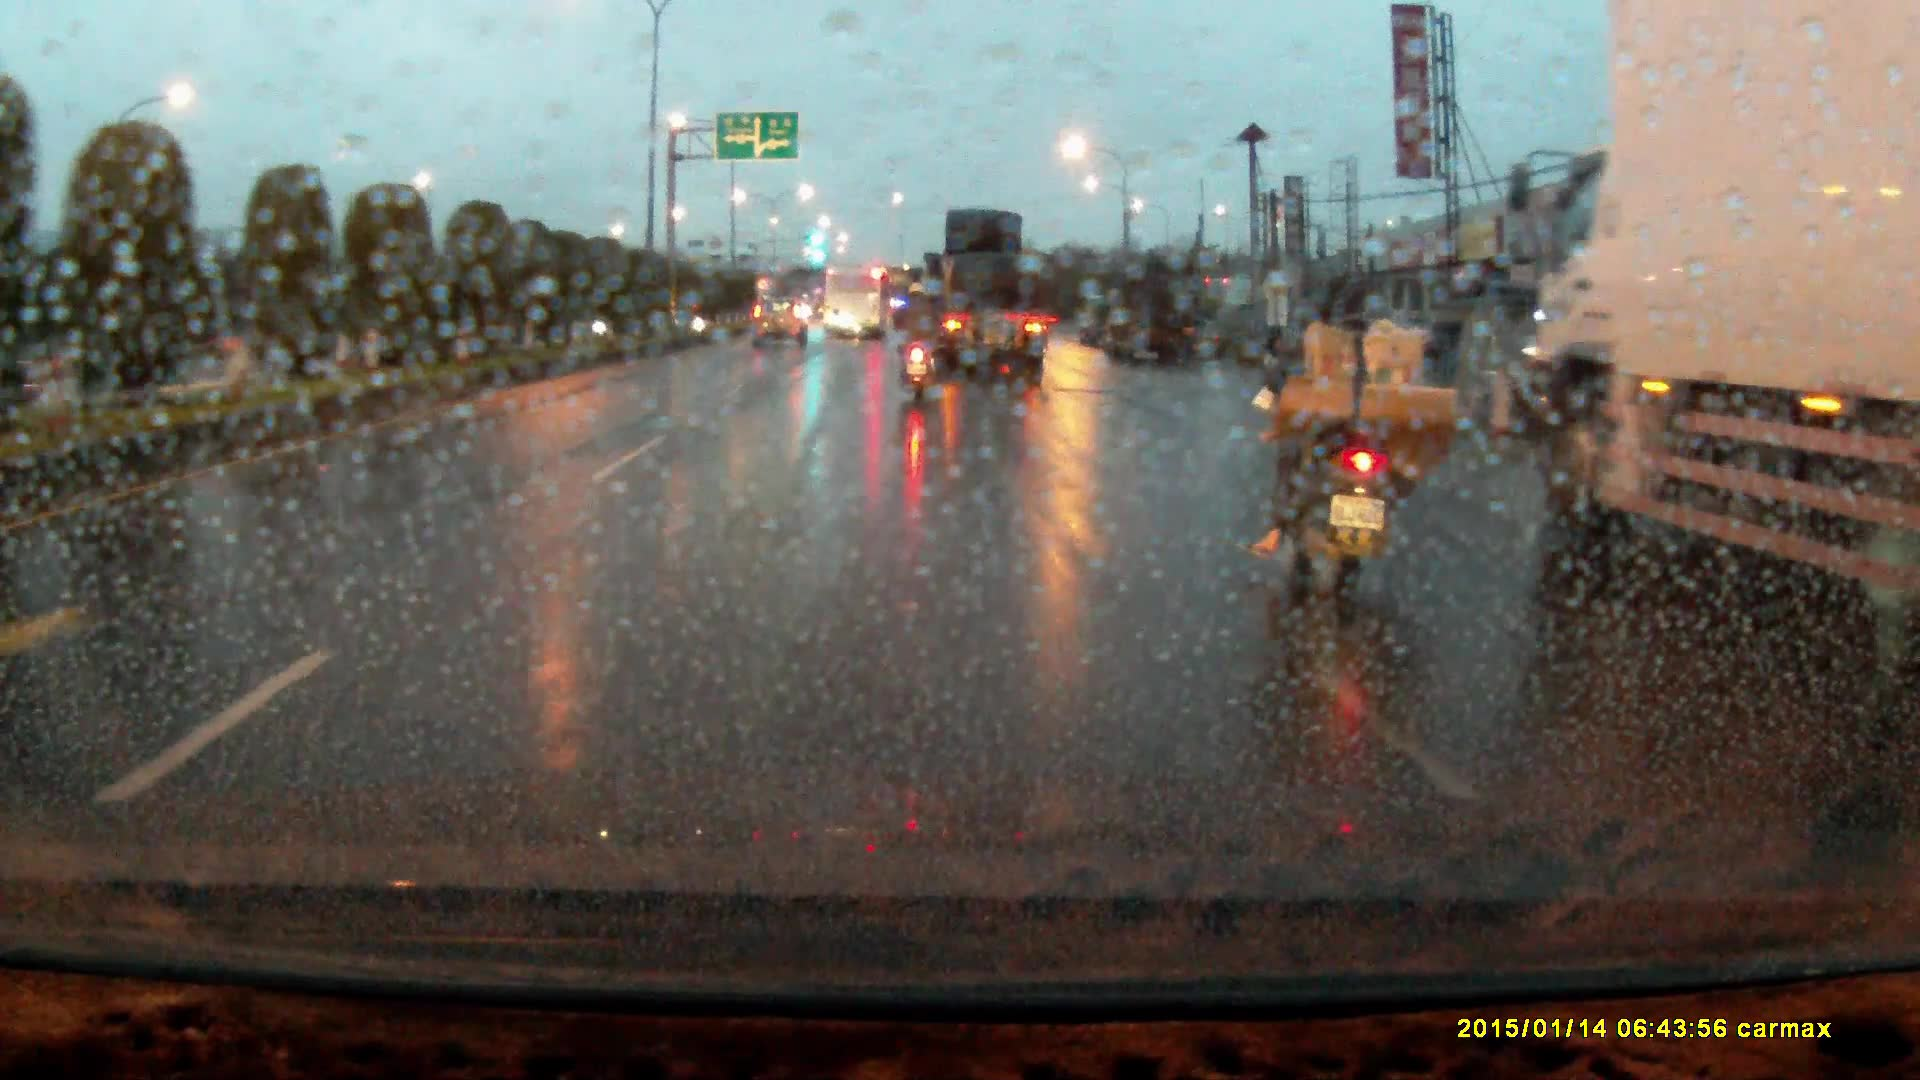rider: (1251, 252, 1467, 617), (900, 273, 947, 390)
vehicle: (1512, 1, 1920, 605), (906, 207, 1050, 385), (1113, 257, 1203, 362), (825, 265, 893, 344), (753, 292, 810, 340), (1075, 292, 1121, 347)
